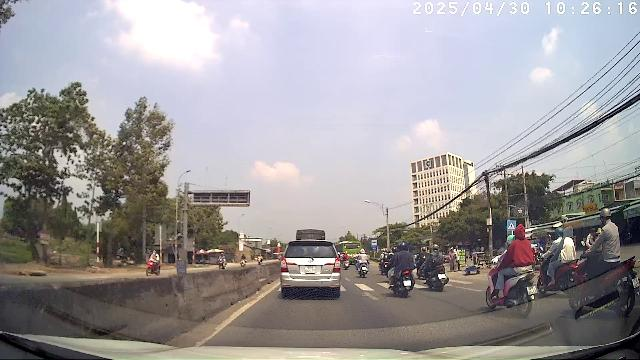423a-duong-nguoi-di-bo-sang-ngang-1: (507, 220, 516, 230)
